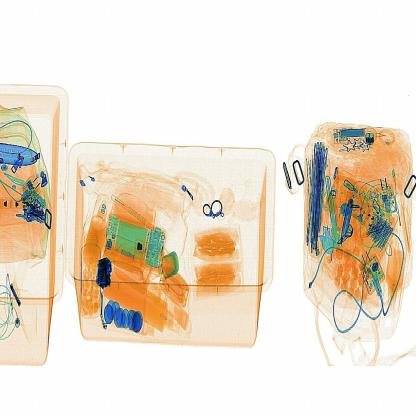scissors: (90, 252, 116, 291)
